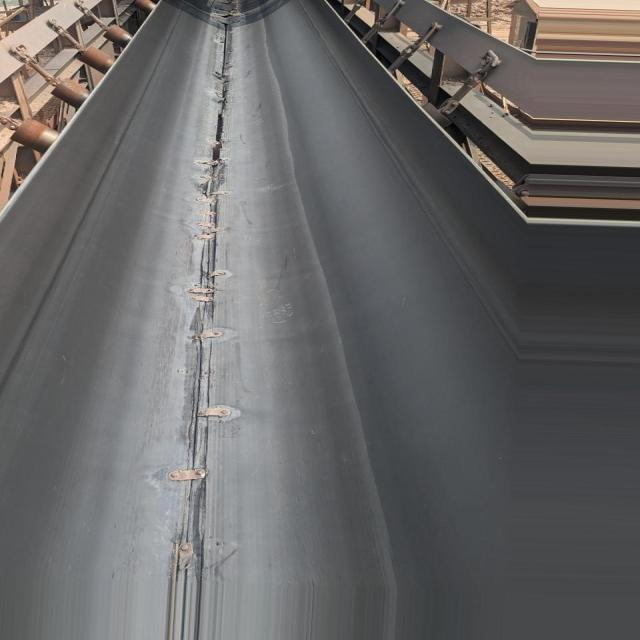Roller: (17, 0, 150, 156)
Tear: (202, 28, 248, 216)
patch work: (161, 234, 236, 635)
